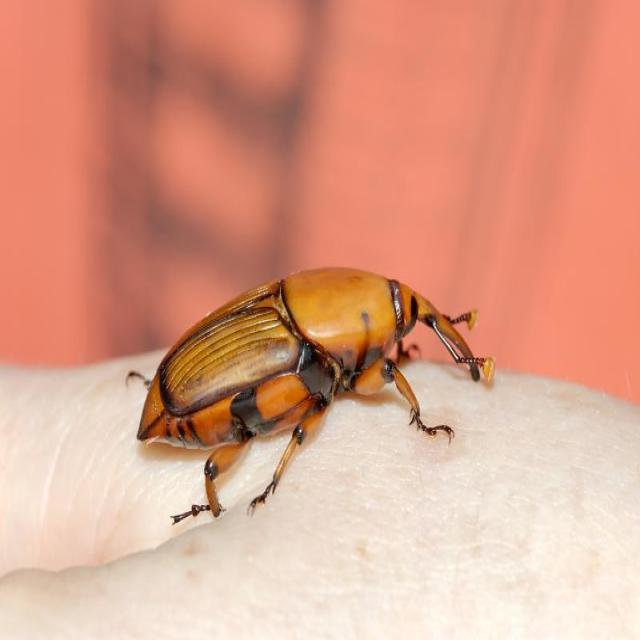Red-palm-weevil: (104, 252, 497, 516)
